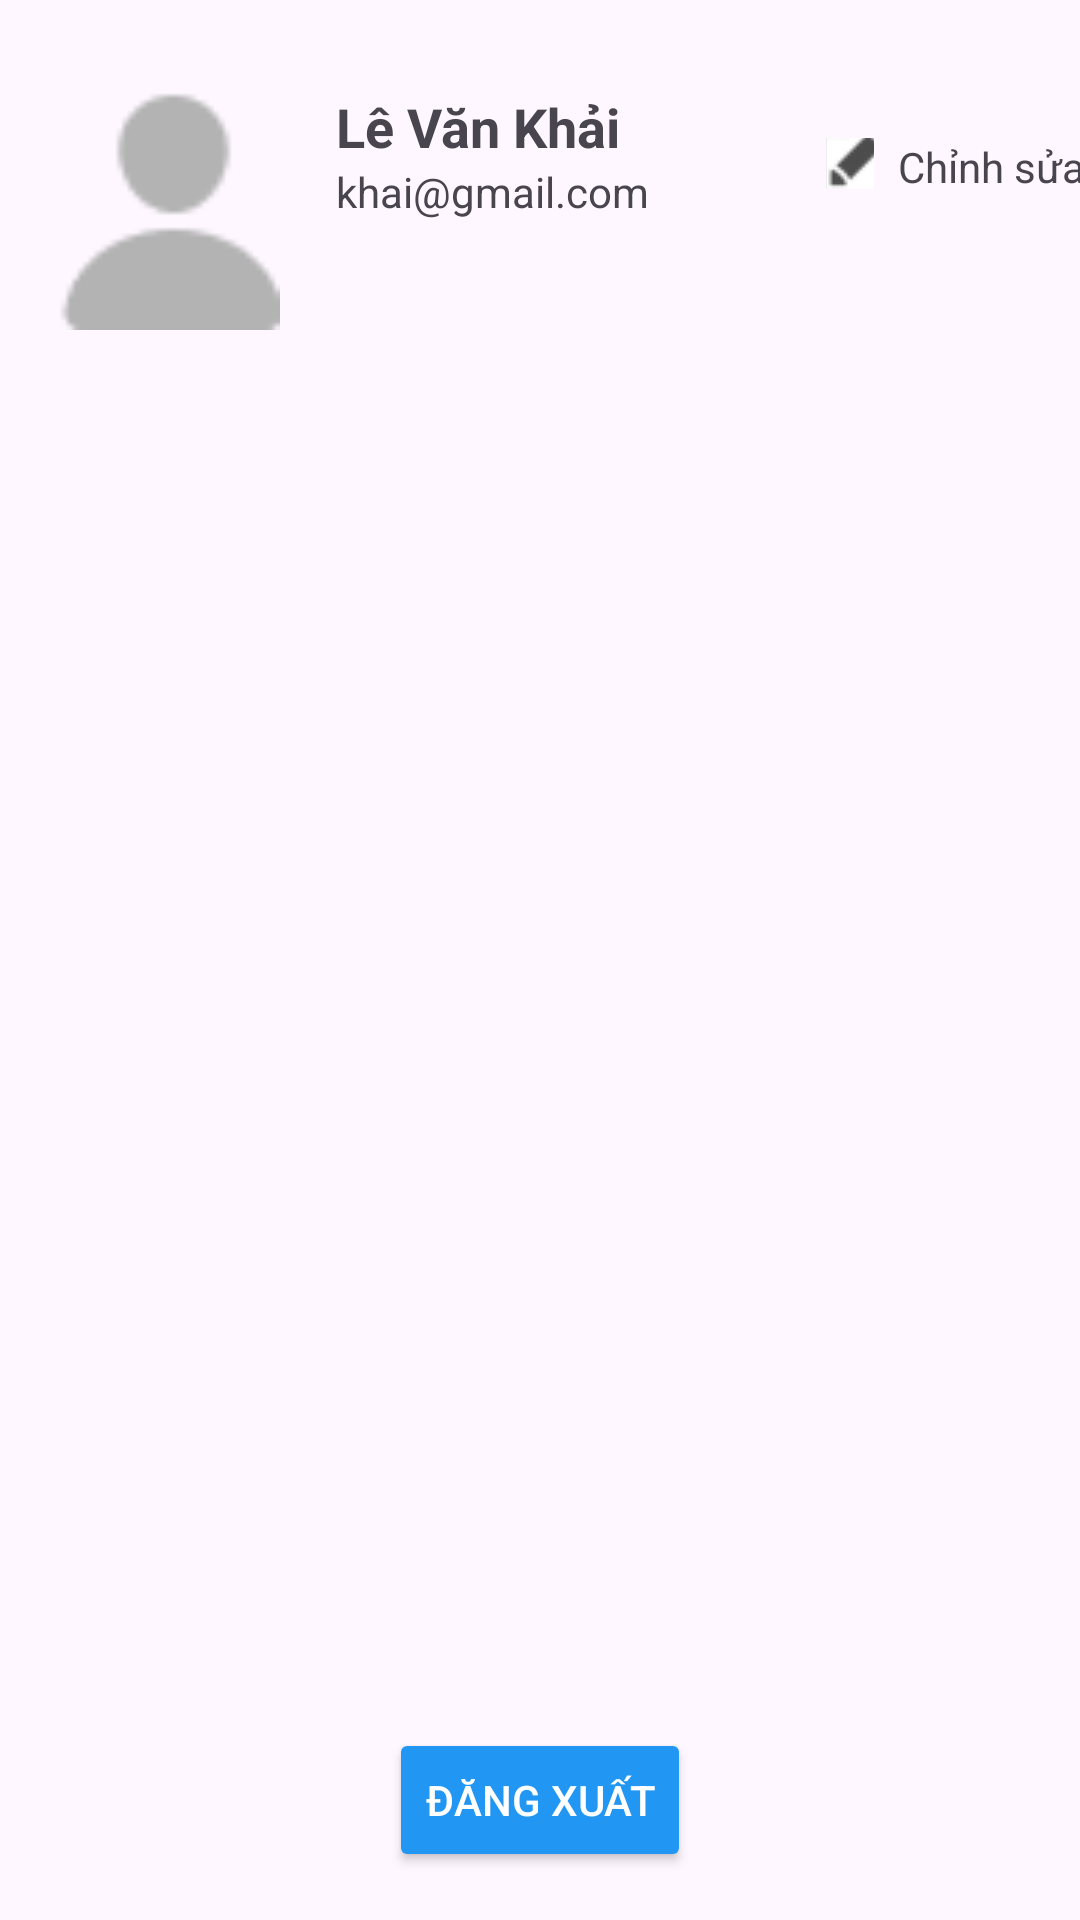

Icons on this 1080px x 1920px Android screen, each with its box as (x1, y1, x2, y2):
edit: (828, 138, 874, 187)
profile: (63, 95, 280, 330)
